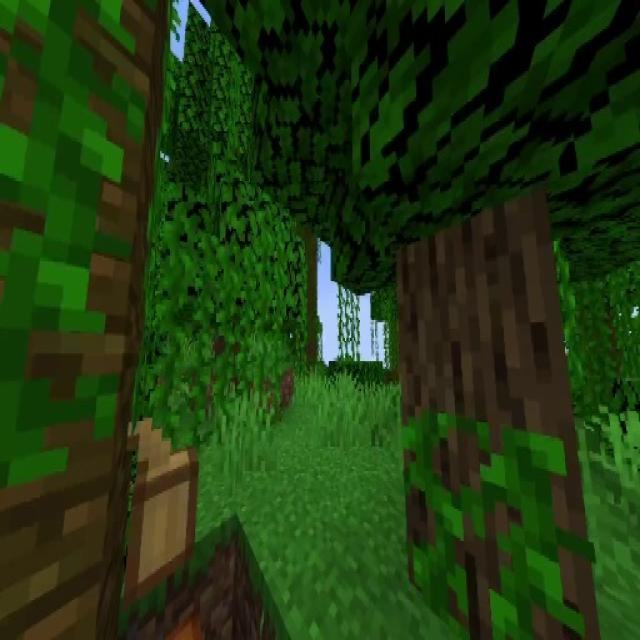jungle_log: (0, 7, 169, 640)
oak_log: (402, 177, 580, 637)
